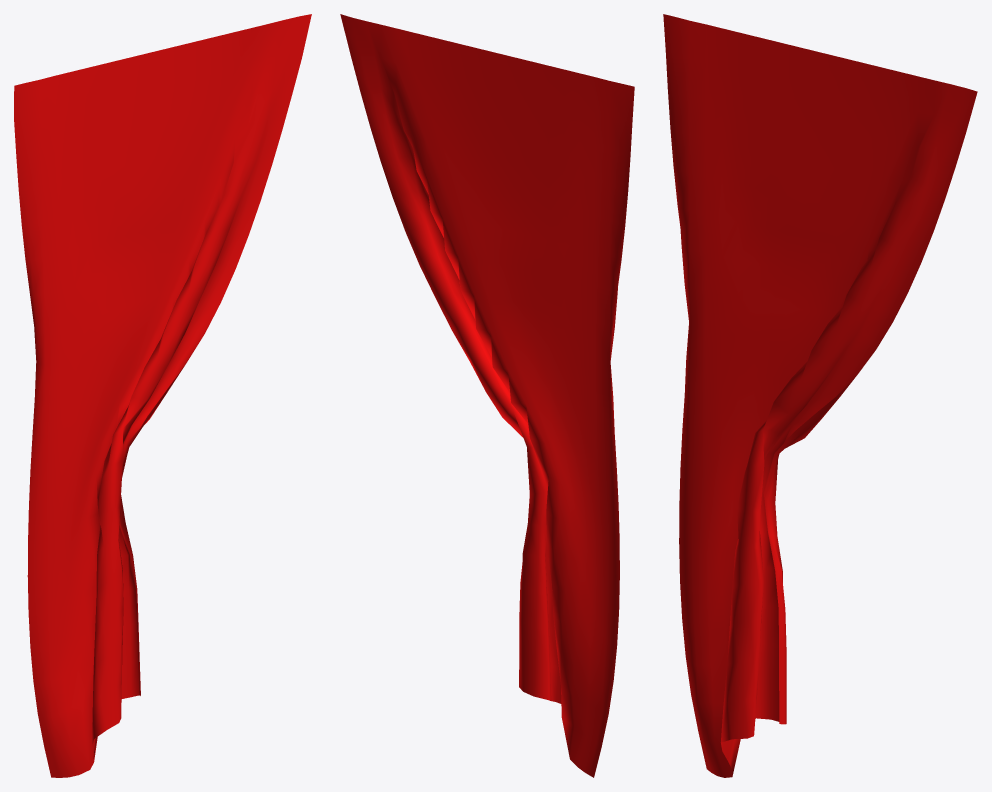
Rendered from 14611aff-ad90-49ec-a25b-31d26dbfffba.glb.
The picture shows the model from 3 angles, left to right: view 1: azimuth 30°, elevation 25°; view 2: azimuth 150°, elevation 25°; view 3: azimuth 330°, elevation 25°; orthographic projection. The views are drawn at different scales.
Visible parts, largest first — view 1: CurtainLeftBrightRed; view 2: CurtainLeftBrightRed; view 3: CurtainLeftBrightRed.
Part boxes in pixels (box(x1,y1,x2,y2)): CurtainLeftBrightRed: box(14, 14, 311, 777); CurtainLeftBrightRed: box(340, 14, 634, 777); CurtainLeftBrightRed: box(663, 14, 977, 777).
Bounding box in the file's own units: 0.874 × 1.98 × 0.0844.
1 material, 1 textured.
